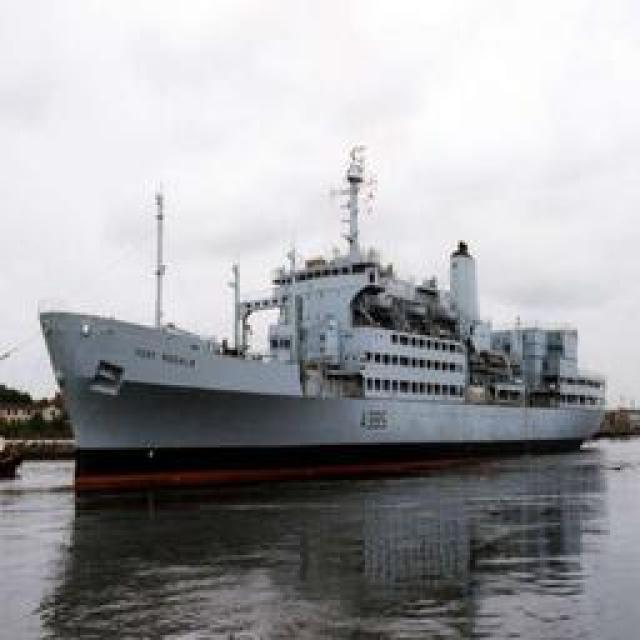CIV_Ship: (40, 160, 600, 455)
